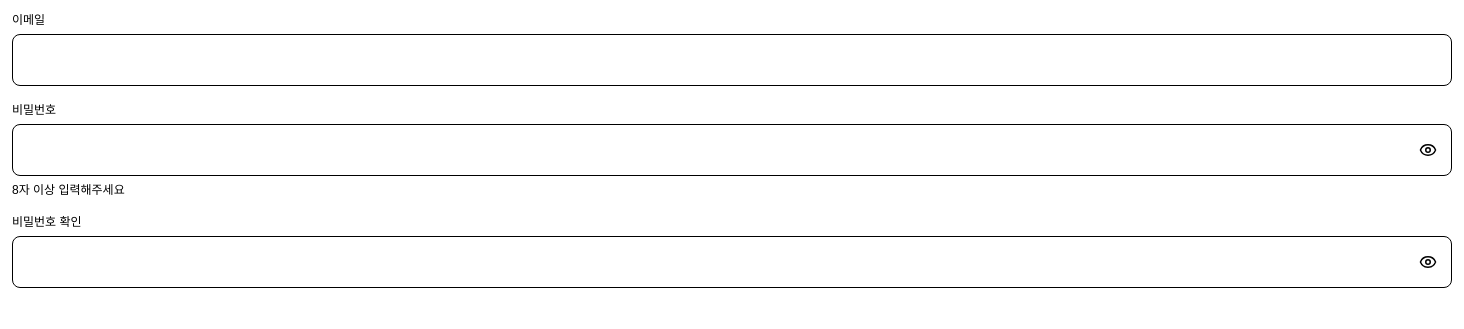
Test: SignupForm › should show 약함 when password is short
Type "abc" into the password field labelled "비밀번호" at (732, 150), box [12,124,1452,176]
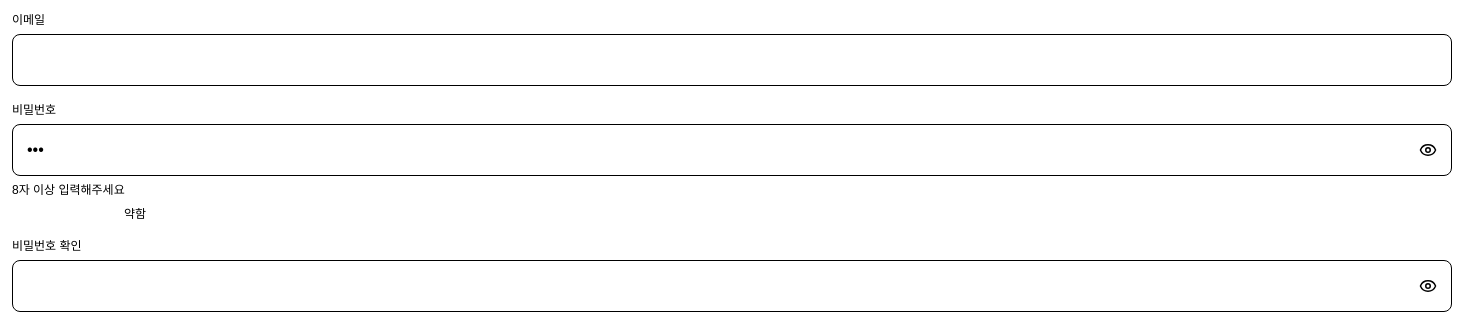
Now the text "약함" is shown, box [124,206,146,222]
